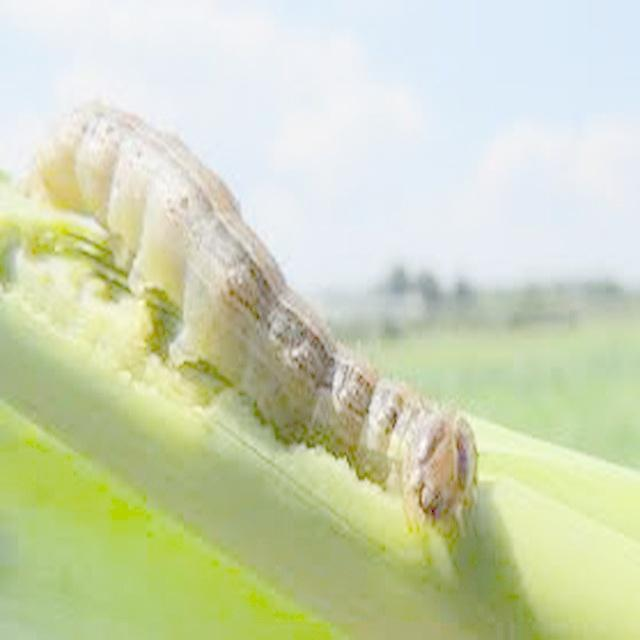gusano_cogollero: (38, 96, 486, 542)
